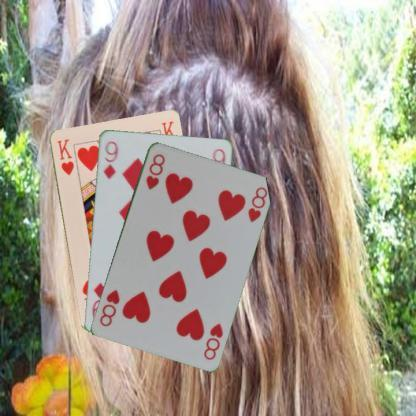8h: (200, 320, 224, 361), (142, 150, 166, 190)
9d: (100, 138, 119, 180)
Kh: (54, 136, 75, 177)
